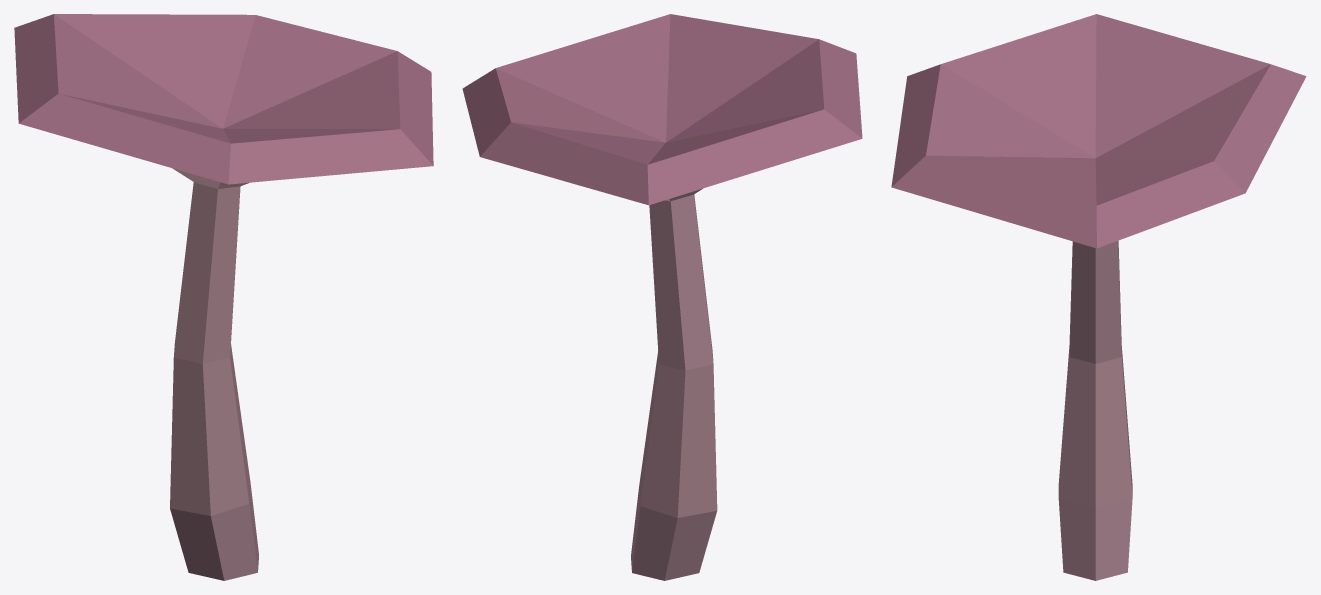
The model's file is Mushroom-E04.fbx.
3 views of the same model, side by side, from view 1: azimuth 30°, elevation 25°; view 2: azimuth 150°, elevation 25°; view 3: azimuth 270°, elevation 25° (orthographic). The views are drawn at different scales.
Parts seen in each view (by area): view 1: Mushroom-E04; view 2: Mushroom-E04; view 3: Mushroom-E04.
Part boxes in pixels (box(x1,y1,x2,y2)): Mushroom-E04: box(14, 14, 433, 580); Mushroom-E04: box(462, 14, 862, 580); Mushroom-E04: box(891, 14, 1306, 580).
Size of the model in its own units: 44.97 by 53.14 by 42.02.
